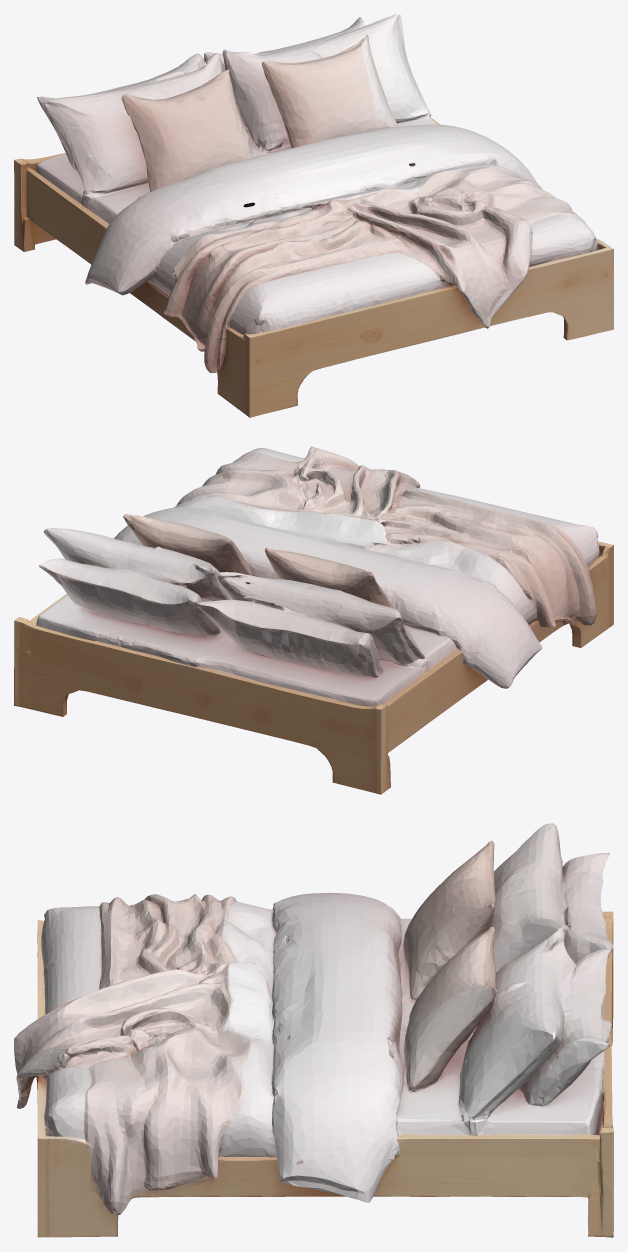
The model's file is BASE YUTE.glb.
3 views of the same model, one above another, from view 1: azimuth 30°, elevation 25°; view 2: azimuth 150°, elevation 25°; view 3: azimuth 270°, elevation 25° (orthographic). The views are drawn at different scales.
Parts seen in each view (by area): view 1: world; view 2: world; view 3: world.
Part boxes in pixels (x1=…): world: x1=14, y1=14, x2=613, y2=417; world: x1=14, y1=446, x2=613, y2=794; world: x1=14, y1=823, x2=613, y2=1237.
Size of the model in its own units: 0.9981 by 0.39 by 0.9924.
1 material, 1 textured.
